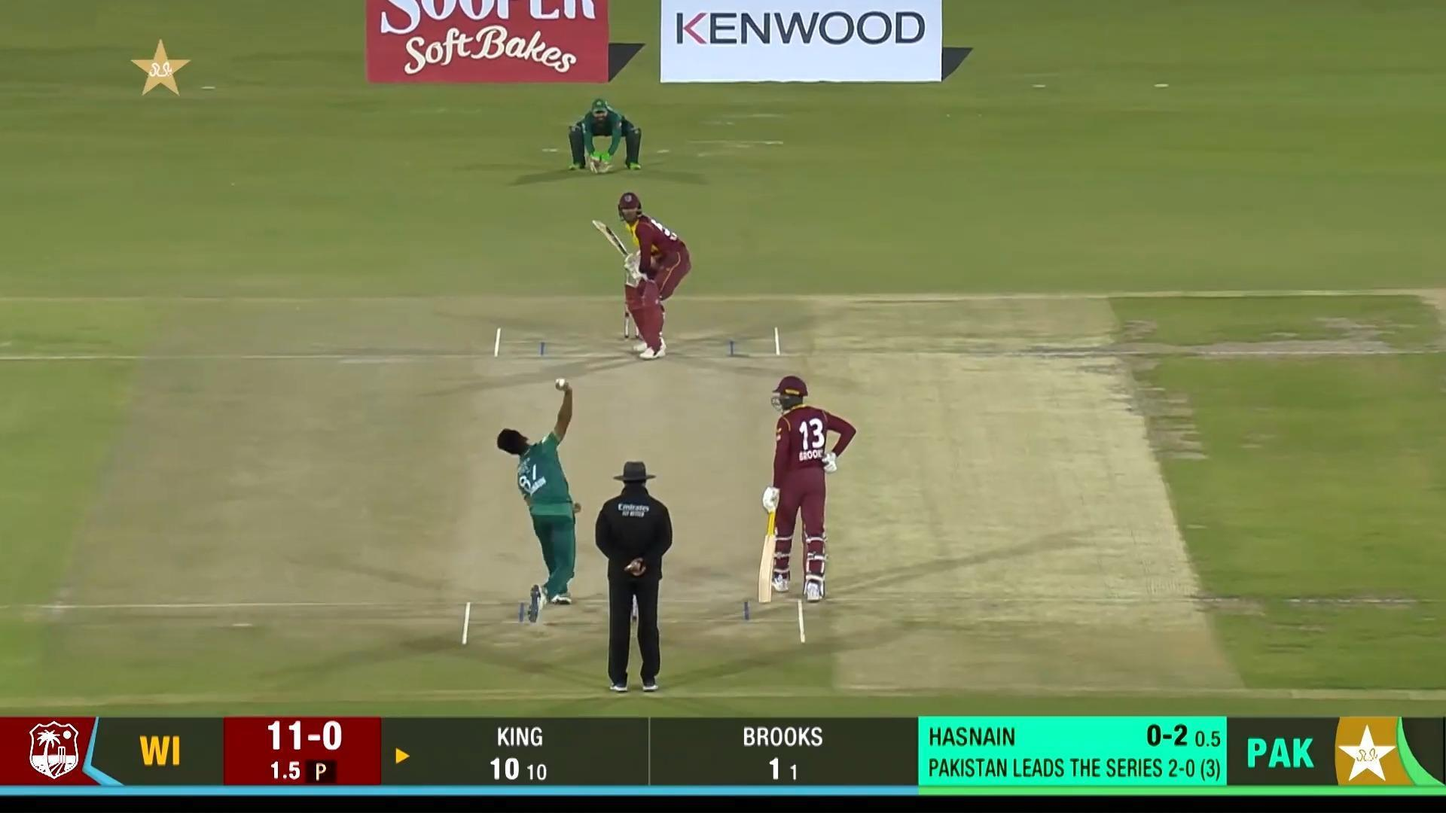BM 1: (592, 192, 692, 360)
BO: (497, 383, 582, 624)
